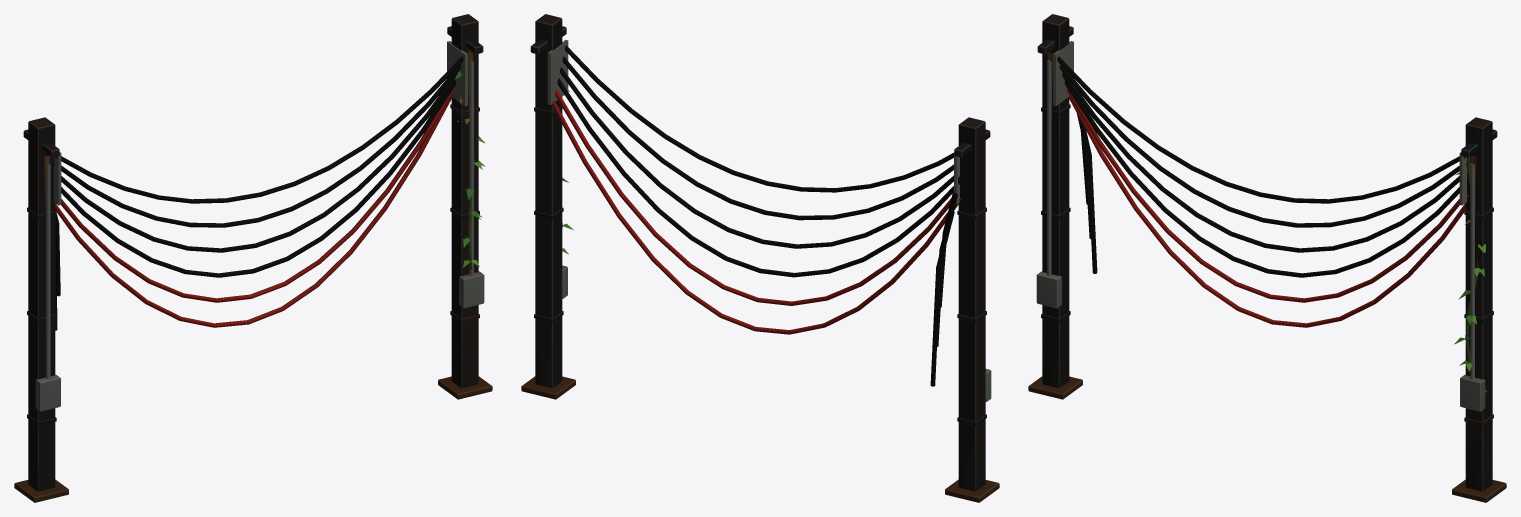
The model's file is cable_drapes.glb.
3 renders of one model, left to right at view 1: azimuth 30°, elevation 25°; view 2: azimuth 150°, elevation 25°; view 3: azimuth 330°, elevation 25°, orthographic.
Parts seen in each view (by area): view 1: Mesh; view 2: Mesh; view 3: Mesh.
Boxes of the visible parts, x1=… form: Mesh: x1=14, y1=14, x2=492, y2=502; Mesh: x1=521, y1=14, x2=999, y2=502; Mesh: x1=1028, y1=14, x2=1506, y2=502.
Size of the model in its own units: 6.5 by 5 by 0.7343.
